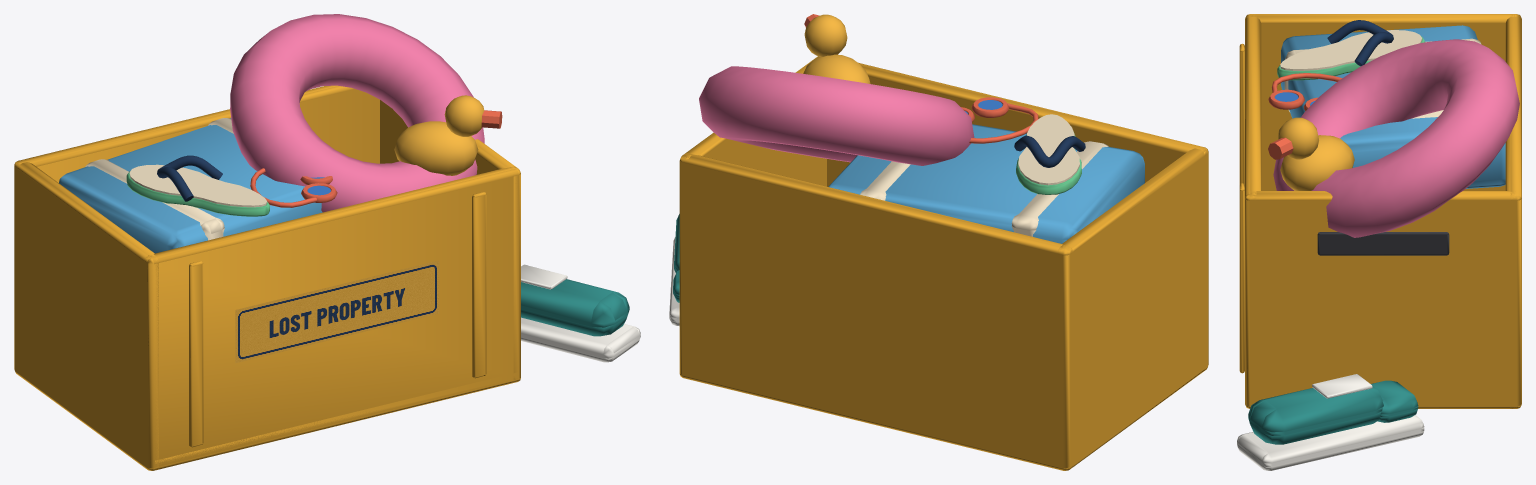
Rendered from lost_property.glb.
The picture shows the model from 3 angles, left to right: view 1: azimuth 30°, elevation 25°; view 2: azimuth 150°, elevation 25°; view 3: azimuth 270°, elevation 25°; orthographic projection. The views are drawn at different scales.
Visible parts, largest first — view 1: LostPropertyBody; view 2: LostPropertyBody; view 3: LostPropertyBody.
Boxes of the visible parts, x1,y1,x2,y2 form: LostPropertyBody: [14, 14, 640, 470]; LostPropertyBody: [669, 14, 1208, 470]; LostPropertyBody: [1237, 14, 1521, 470].
Size of the model in its own units: 0.8862 by 0.506 by 0.4321.
15 materials, 1 textured.
